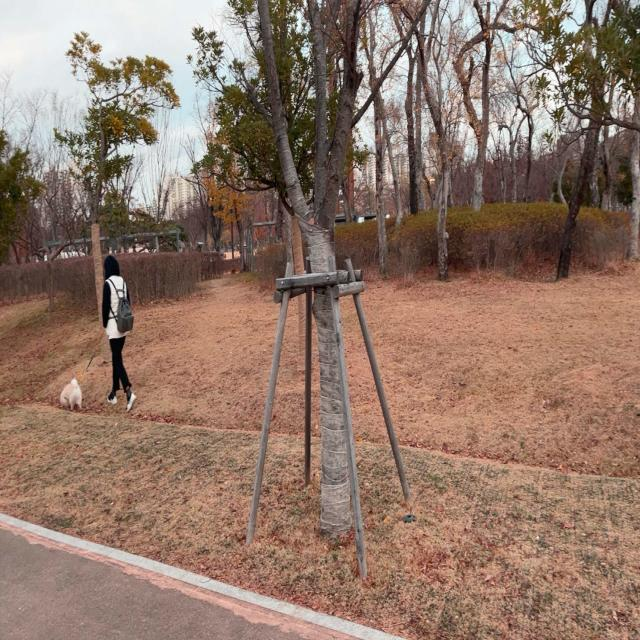Leashed_Dog: (60, 325, 120, 413)
